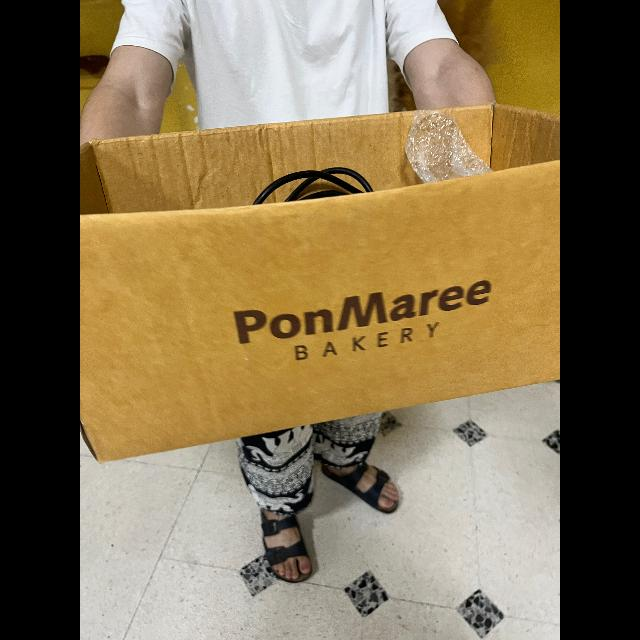cardboard_box: (80, 107, 560, 467)
